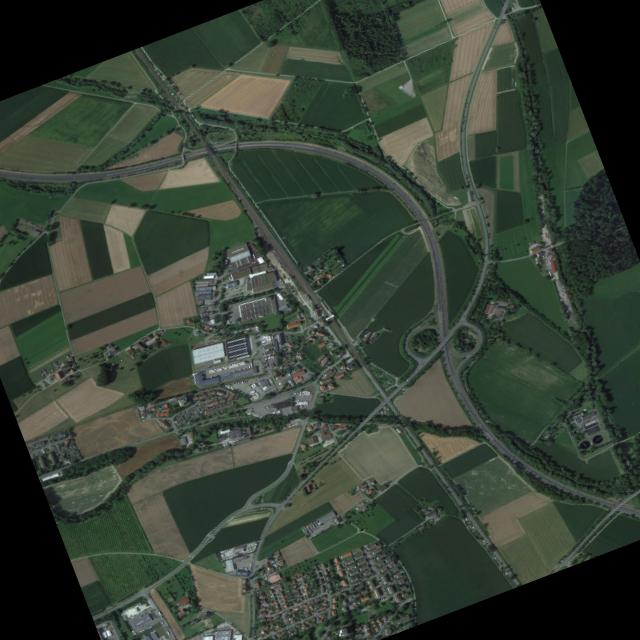storage-tank: (589, 432, 604, 446), (576, 438, 591, 451), (574, 407, 581, 413), (575, 427, 580, 433), (571, 429, 577, 434), (582, 407, 586, 411)
